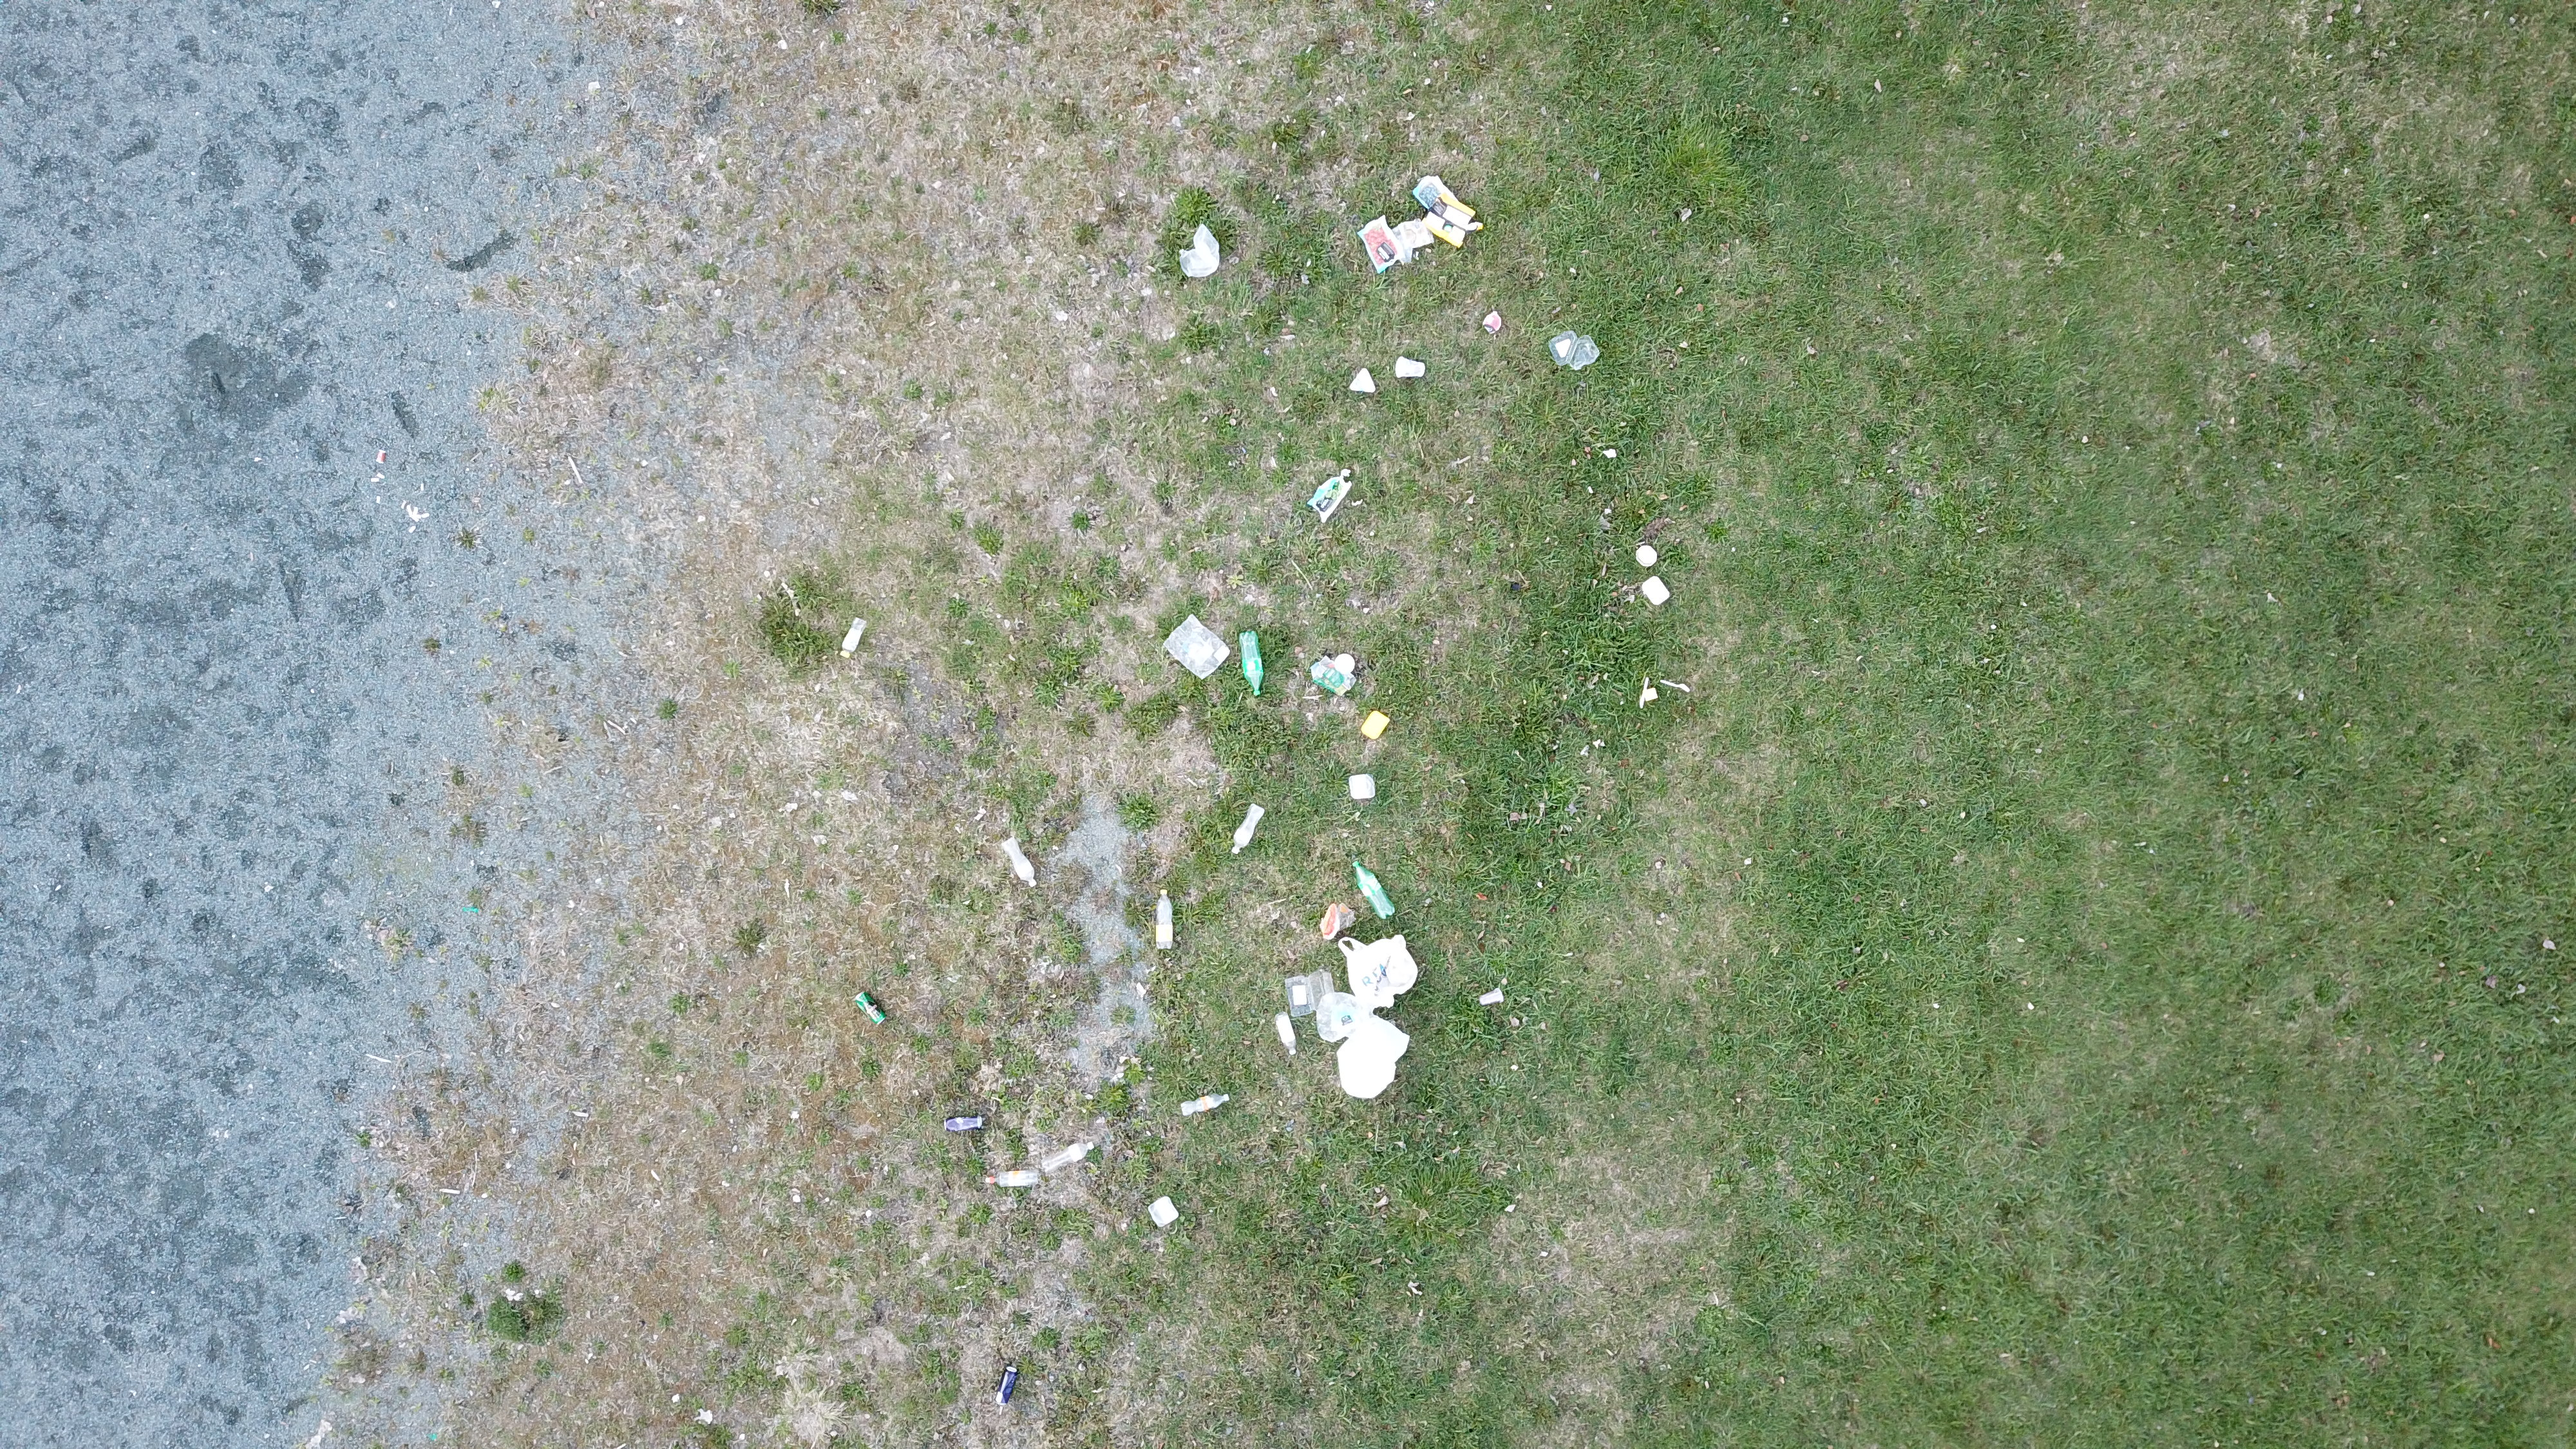Can: (855, 989, 886, 1026), (994, 1366, 1017, 1407), (941, 1115, 985, 1132)
Plastic: (1336, 1016, 1412, 1104), (1338, 934, 1419, 1014), (1164, 616, 1231, 681), (1424, 196, 1486, 251), (1286, 970, 1338, 1021), (1316, 993, 1371, 1040), (1355, 216, 1401, 272), (1309, 467, 1353, 522), (1387, 216, 1433, 267), (1180, 221, 1221, 278), (1548, 331, 1601, 370), (1412, 175, 1463, 214), (1311, 658, 1357, 699), (1318, 902, 1357, 943), (1148, 1194, 1180, 1230), (1640, 575, 1672, 607), (1346, 366, 1380, 396), (1361, 709, 1391, 741), (1348, 773, 1376, 800), (1396, 357, 1428, 380), (1654, 678, 1693, 694), (1476, 987, 1506, 1007), (1483, 310, 1506, 334), (1635, 547, 1660, 566), (1336, 653, 1353, 674), (1640, 676, 1651, 709), (373, 448, 387, 465), (1644, 686, 1658, 702), (460, 906, 481, 915)
PlasticBottle: (1350, 860, 1396, 922), (1237, 630, 1267, 697), (1000, 837, 1039, 888), (1035, 1141, 1095, 1173), (1230, 803, 1267, 855), (982, 1168, 1044, 1189), (1155, 888, 1175, 952), (840, 616, 867, 658), (1182, 1093, 1230, 1116), (1276, 1012, 1299, 1056)
